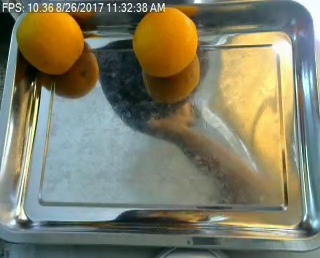Orange: (132, 6, 199, 78), (15, 7, 85, 73)
